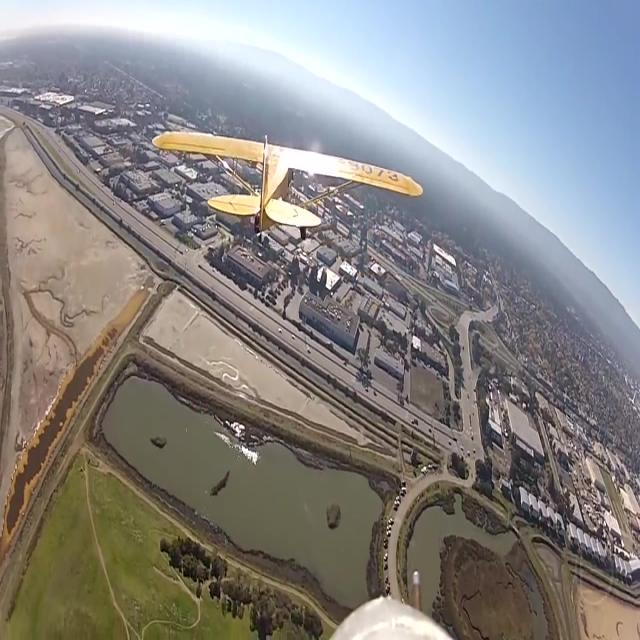iha: (151, 164, 424, 202)
